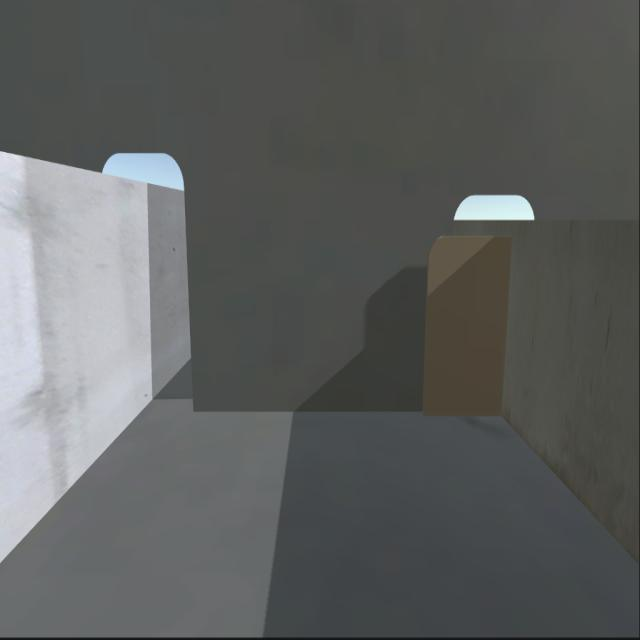fillet_yong_jeop_jang: (192, 400, 501, 421)
longi_yong_jeop_jang: (499, 234, 515, 416)
plate_CP05: (420, 231, 512, 413)
